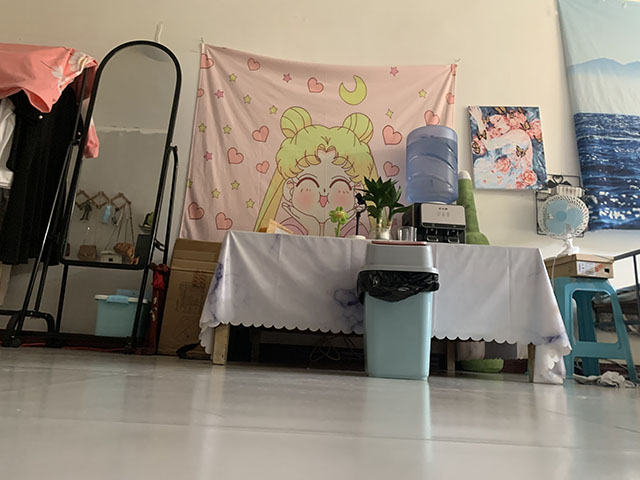socks: (573, 370, 638, 390)
table: (195, 229, 573, 386), (552, 275, 640, 387)
trashcan: (355, 239, 442, 383)
wire: (303, 331, 366, 369), (573, 356, 631, 377)
